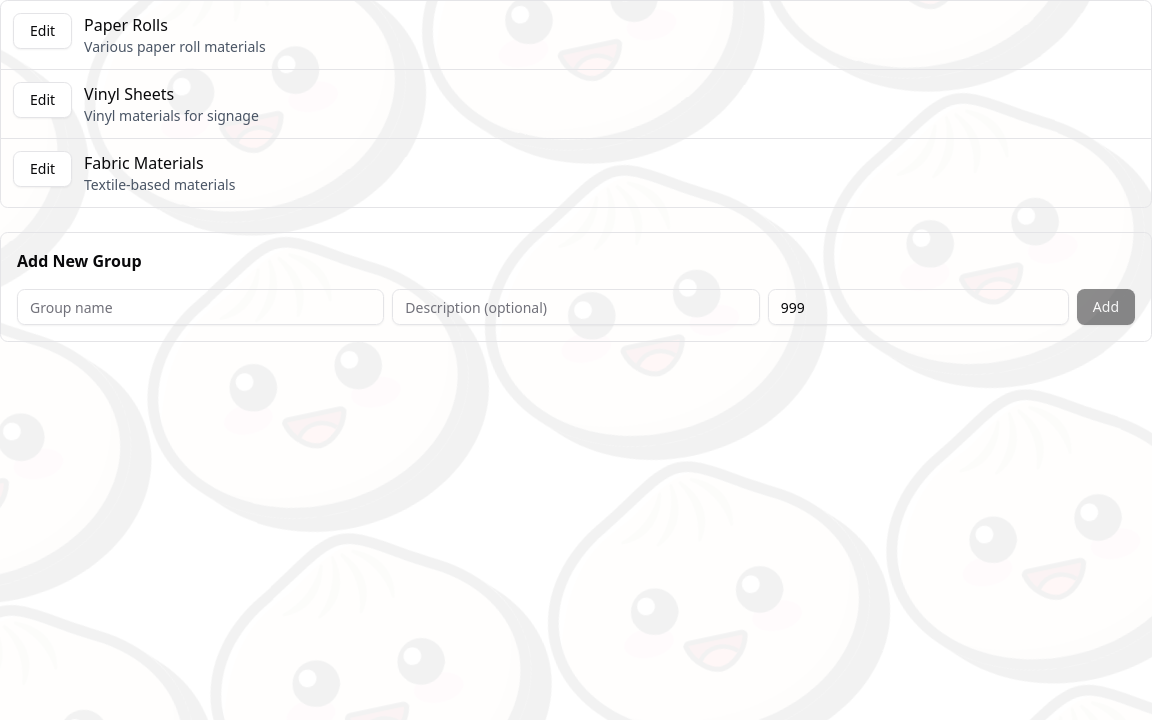
Test case: GroupManager › Add New Group › enables add button when name is filled
Type "Test" into the field with placeholder "Group name" at point(201, 307), box [17,289,384,325]
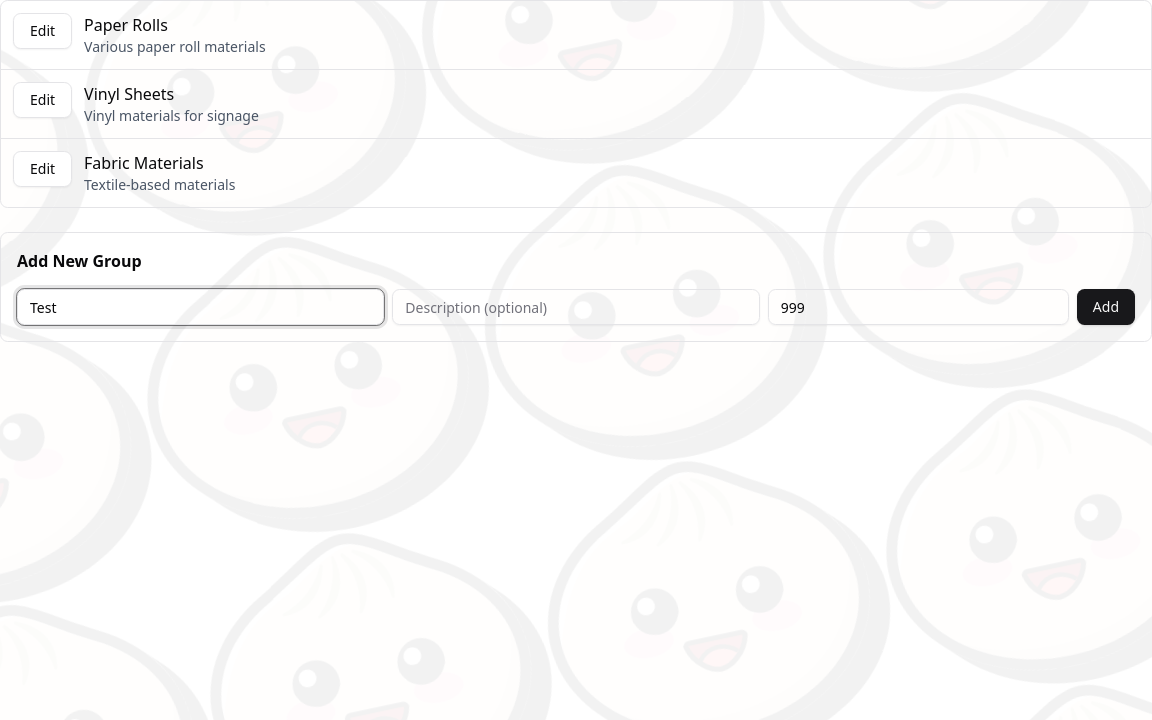
Result: the button "Add" is enabled at [1077,289,1135,325]
